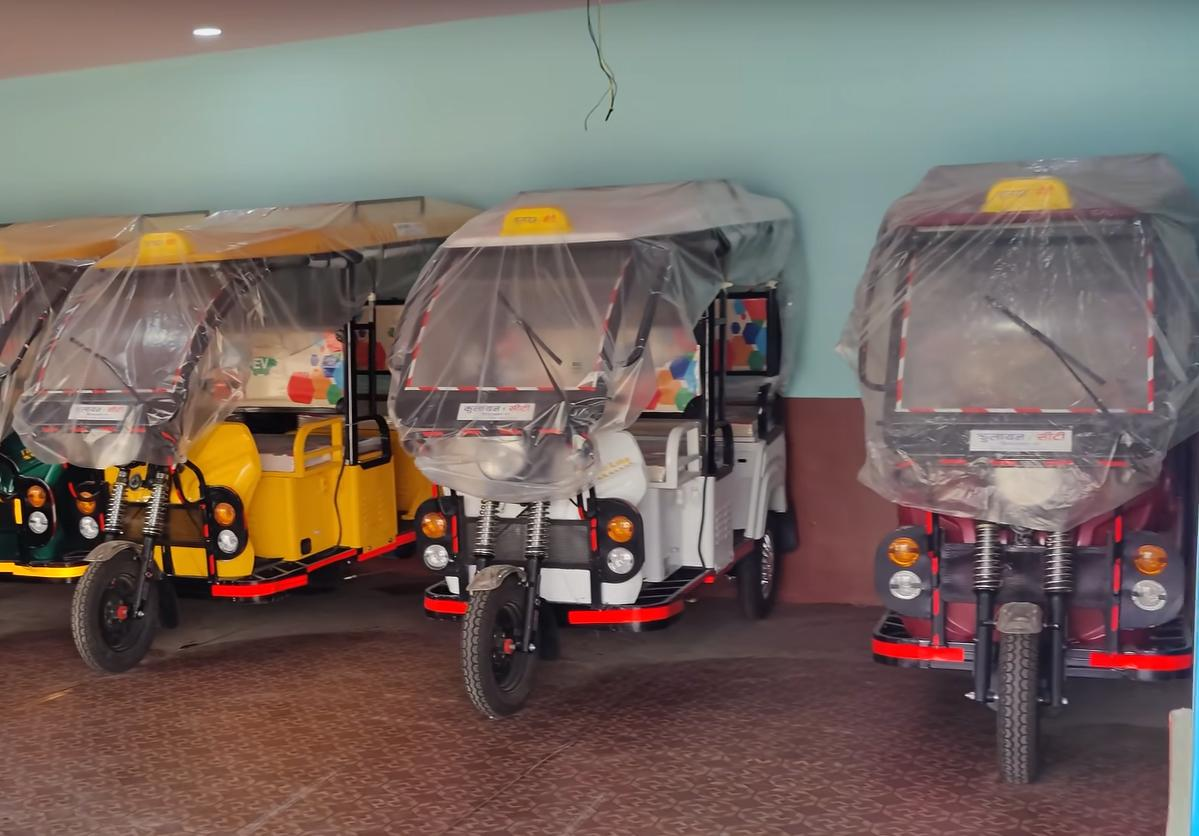e-rickshaw: (836, 115, 1199, 779), (28, 161, 476, 670), (393, 181, 811, 725)
